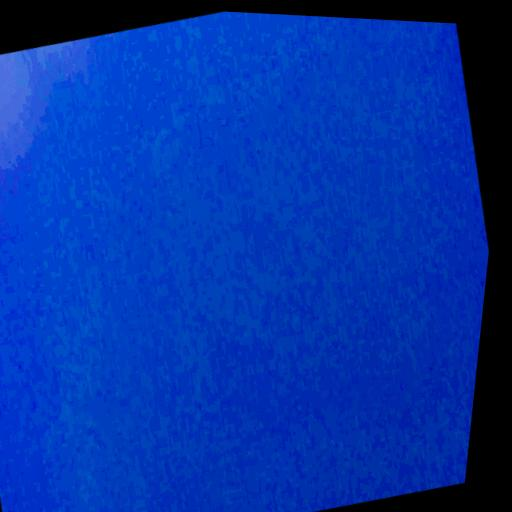drones: (255, 146, 264, 157)
